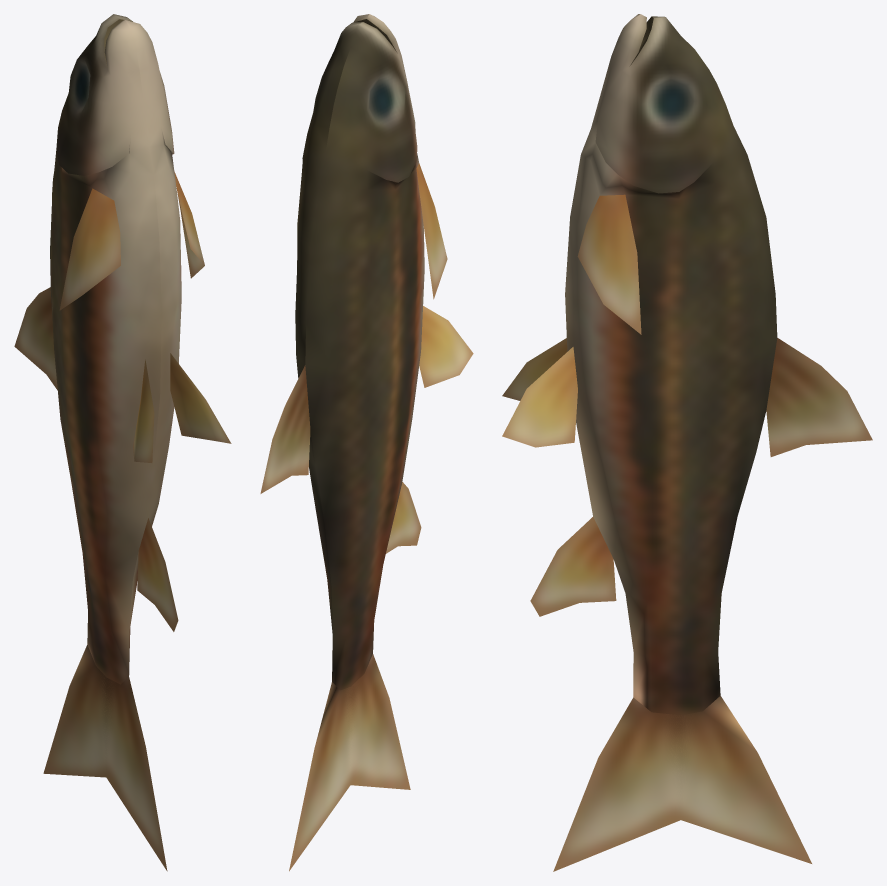
Rendered from dace.glb.
3 views of the same model, side by side, from view 1: azimuth 30°, elevation 25°; view 2: azimuth 150°, elevation 25°; view 3: azimuth 270°, elevation 25° (orthographic). The views are drawn at different scales.
Visible parts, largest first — view 1: FishUgui_node5; view 2: FishUgui_node5; view 3: FishUgui_node5.
Part boxes in pixels (left/top/right/bottom): FishUgui_node5: left=14, top=14, right=231, bottom=871; FishUgui_node5: left=260, top=14, right=473, bottom=871; FishUgui_node5: left=502, top=14, right=872, bottom=871.
Size of the model in its own units: 0.1062 by 0.6341 by 0.2485.
Materials: 1 (1 with a texture image).
